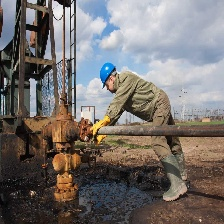helmet: (96, 62, 116, 85)
no-vest: (119, 68, 170, 126)
person: (87, 56, 192, 209)
